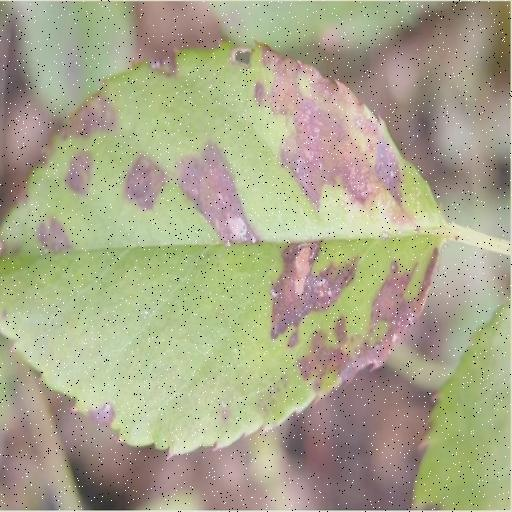downy_mildew: (0, 46, 445, 453)
